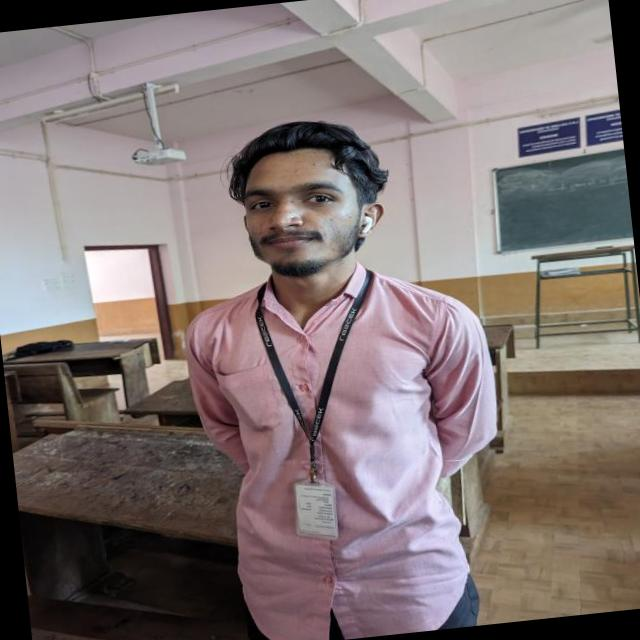id_card: (254, 278, 396, 544)
